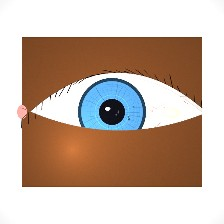pinguecula_lesion: (151, 97, 191, 129)
